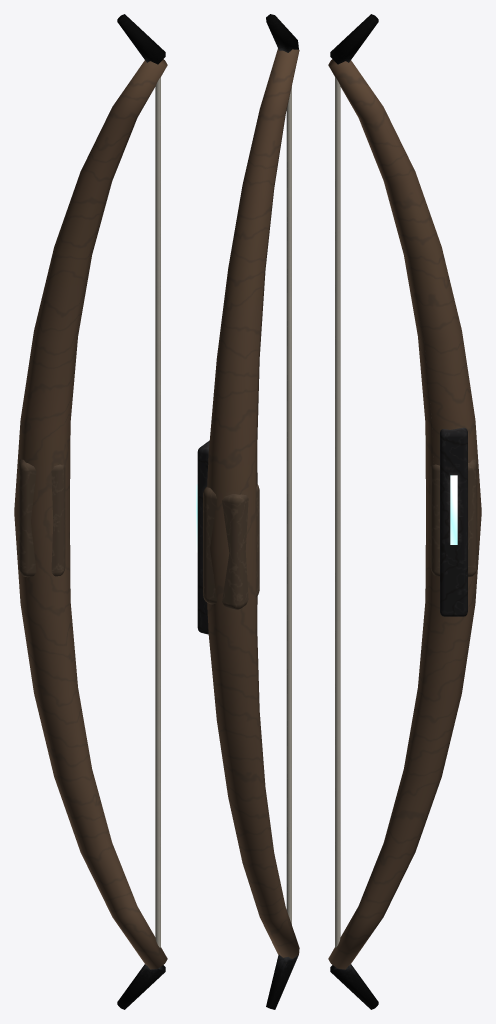
Rendered from arco.glb.
3 renders of one model, left to right at view 1: azimuth 90°, elevation 25°; view 2: azimuth 150°, elevation 25°; view 3: azimuth 270°, elevation 25°, orthographic.
Parts seen in each view (by area): view 1: arco; view 2: arco; view 3: arco.
Part boxes in pixels (x1,y1,x2,y2): arco: [14, 14, 167, 1009]; arco: [196, 14, 299, 1009]; arco: [328, 14, 481, 1009].
Bounding box in the file's own units: 0.071 × 1.18 × 0.1654.
Materials: 2 (1 with a texture image).
